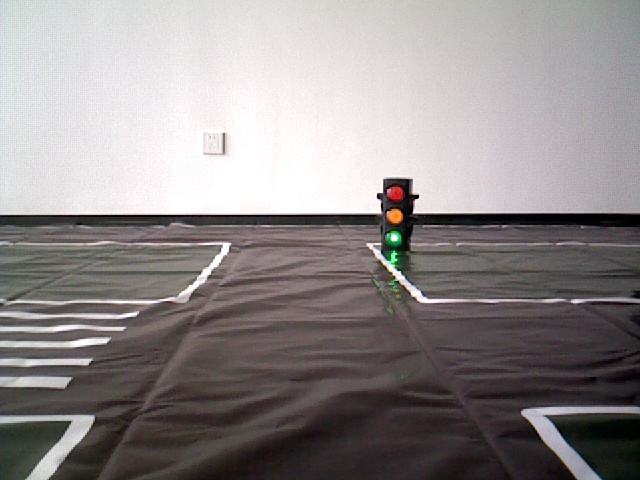green: (385, 181, 407, 248)
